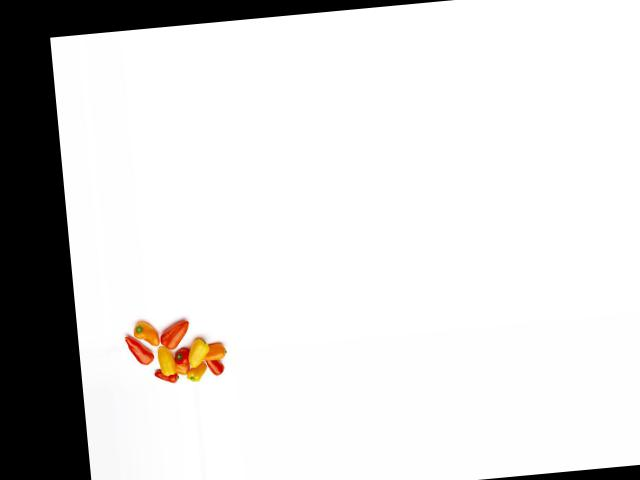bell_pepper: (151, 369, 180, 385)
